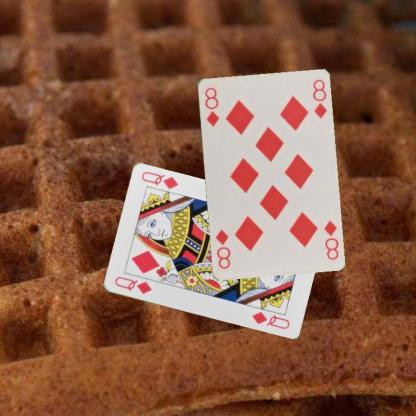8d: (320, 218, 340, 261), (202, 85, 220, 128)
Qd: (112, 274, 153, 296)
